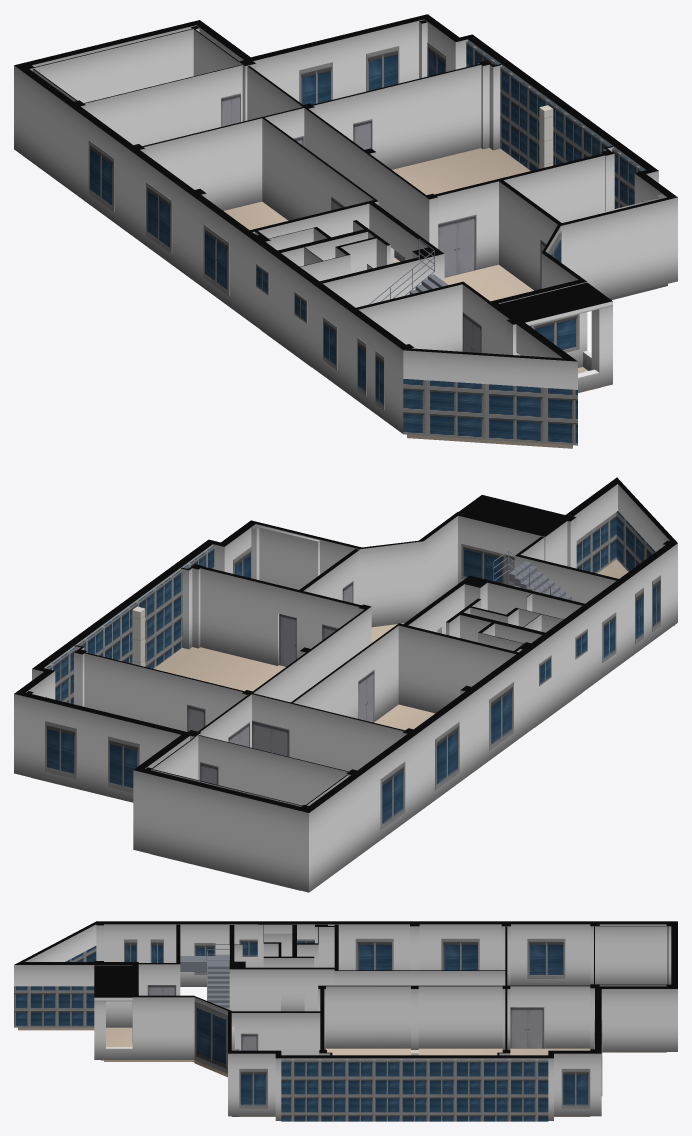
Rendered from soulbrain_T2-3-2F.glb.
3 renders of one model, top to bottom at view 1: azimuth 30°, elevation 25°; view 2: azimuth 150°, elevation 25°; view 3: azimuth 270°, elevation 25°, orthographic. The views are drawn at different scales.
Parts seen in each view (by area): view 1: Cylinder001, T2-3-2F, Box091, Line128, Box123, Box142, Box125; view 2: Cylinder001, T2-3-2F, Box091, Line128, Box077, Box148, Box142; view 3: Cylinder001, T2-3-2F, Box091, Line128, Box148, Box125, Box082.
Part boxes in pixels (x1,y1,x2,y2): Cylinder001: (14, 14, 677, 433); T2-3-2F: (293, 41, 643, 445); Box091: (88, 42, 644, 410); Line128: (224, 148, 600, 448); Box123: (438, 214, 476, 277); Box142: (539, 105, 553, 168); Box125: (462, 312, 481, 352); Cylinder001: (14, 477, 677, 892); T2-3-2F: (46, 511, 655, 756); Box091: (45, 543, 660, 829); Line128: (31, 559, 674, 890); Box077: (187, 614, 296, 731); Box148: (509, 561, 577, 601); Box142: (132, 606, 145, 666); Cylinder001: (14, 921, 677, 1120); T2-3-2F: (14, 944, 548, 1121); Box091: (124, 938, 602, 1108); Line128: (18, 1027, 666, 1116); Box148: (180, 956, 229, 1009); Box125: (147, 985, 176, 995); Box082: (241, 1033, 258, 1050).
Size of the model in its own units: 17.08 by 4.75 by 34.82.
Materials: 11 (10 with a texture image).
